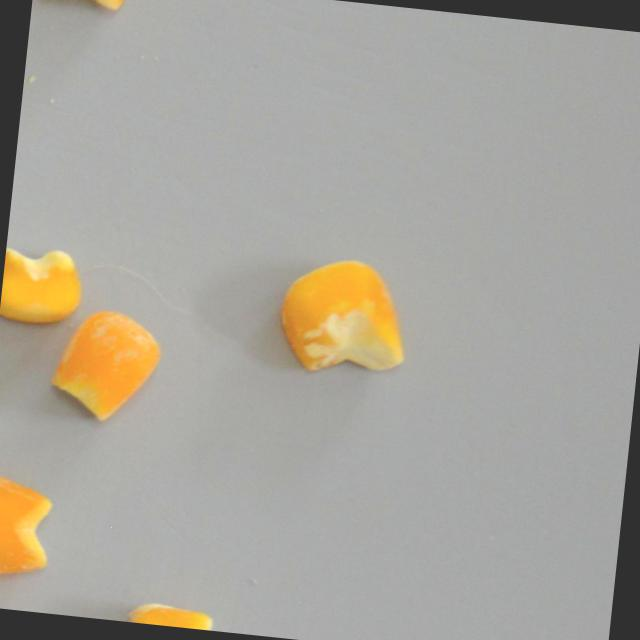dañado: (265, 248, 417, 384), (43, 302, 166, 430), (0, 241, 88, 330), (0, 471, 58, 583), (31, 0, 144, 21)
pelicula: (123, 595, 232, 632)
